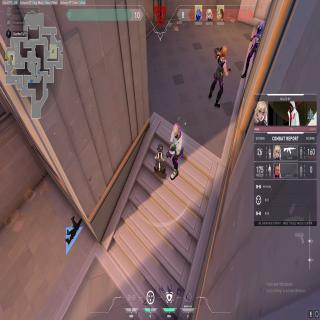ENEMY-BODY: (210, 40, 228, 111), (243, 17, 263, 80), (167, 120, 186, 182)
ENEMY-HEAD: (172, 122, 181, 140), (257, 21, 264, 34), (221, 45, 227, 58)
